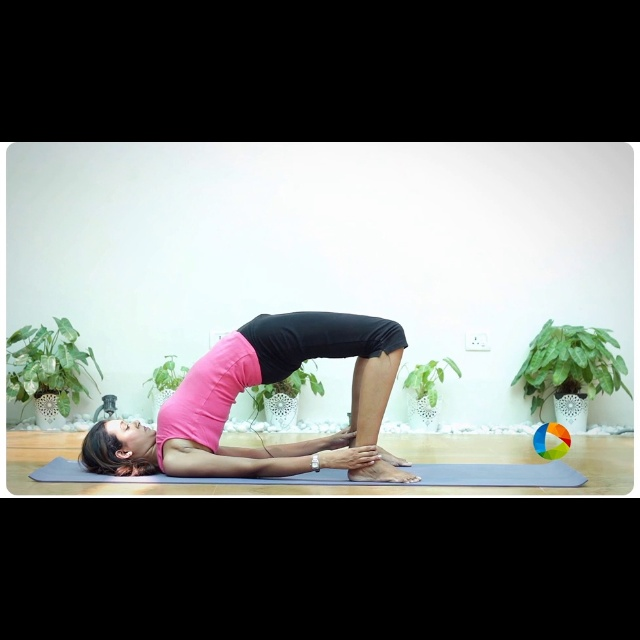Bridge_Pose: (73, 303, 438, 491)
